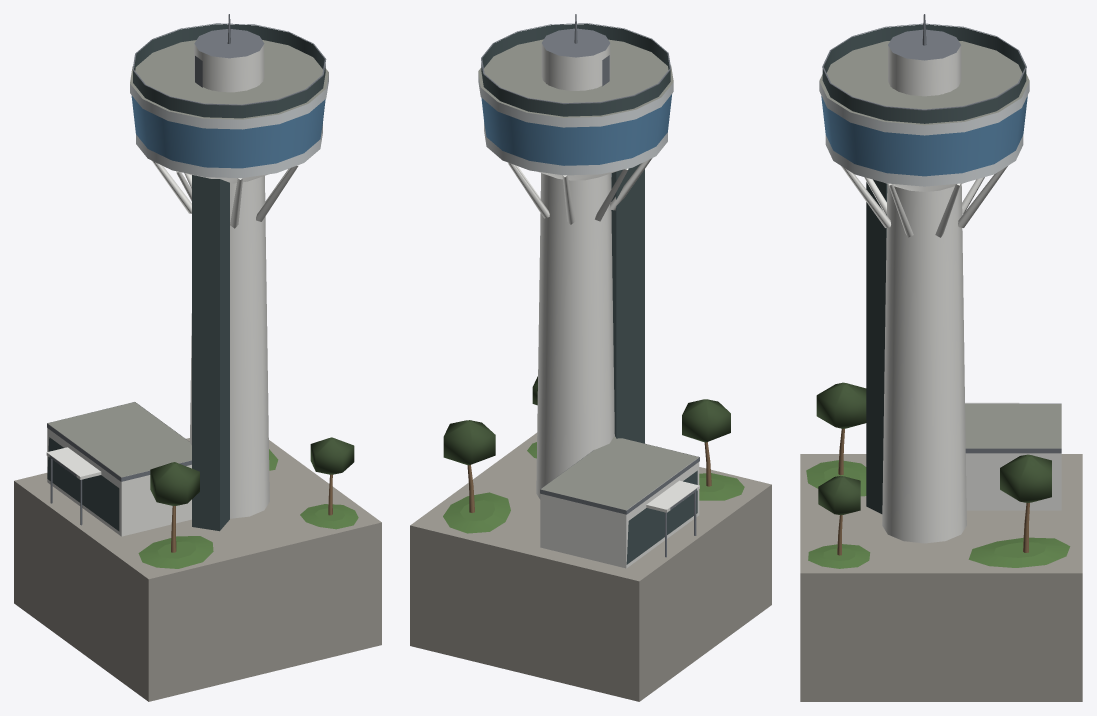
File: far.fbx
3 views of the same model, side by side, from view 1: azimuth 30°, elevation 25°; view 2: azimuth 150°, elevation 25°; view 3: azimuth 270°, elevation 25° (orthographic). The views are drawn at different scales.
Parts seen in each view (by area): view 1: a1067/0/far; view 2: a1067/0/far; view 3: a1067/0/far.
Part boxes in pixels (x1,y1,x2,y2): a1067/0/far: (14, 14, 381, 701); a1067/0/far: (410, 14, 771, 701); a1067/0/far: (800, 14, 1082, 701).
Size of the model in its own units: 20 by 50 by 20.
